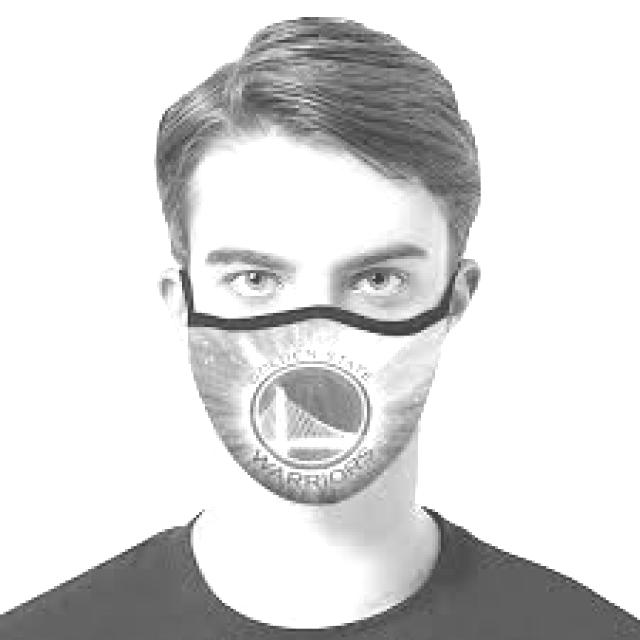fake: (156, 284, 472, 516)
real: (185, 140, 447, 515)
